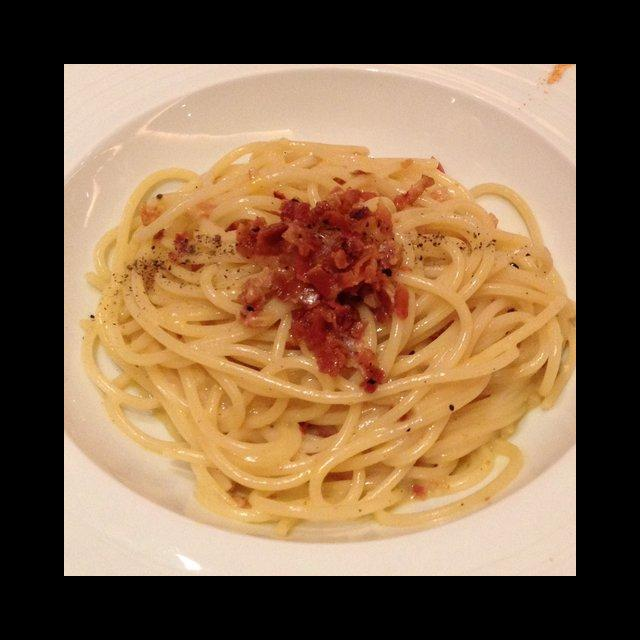noodles: (76, 136, 576, 536)
